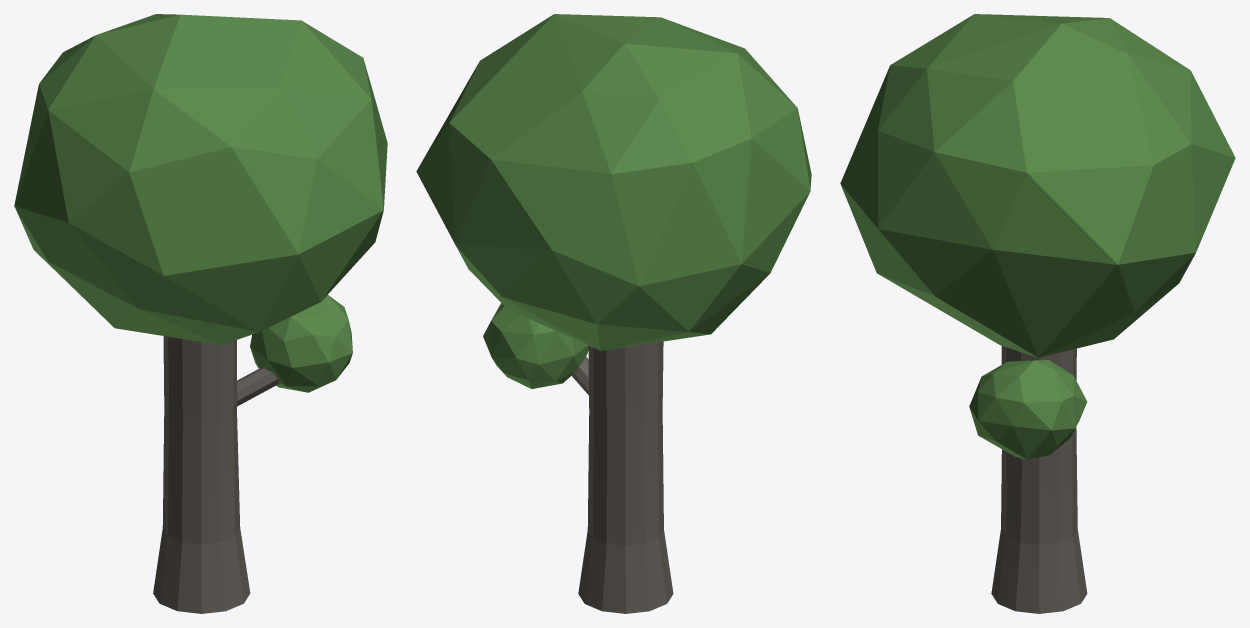
File: round tree1.fbx
3 renders of one model, left to right at view 1: azimuth 30°, elevation 25°; view 2: azimuth 150°, elevation 25°; view 3: azimuth 270°, elevation 25°, orthographic. The views are drawn at different scales.
Visible parts, largest first — view 1: Round Tree.003; view 2: Round Tree.003; view 3: Round Tree.003.
Boxes of the visible parts, bbox=[...] form: Round Tree.003: bbox=[14, 14, 387, 613]; Round Tree.003: bbox=[416, 14, 811, 613]; Round Tree.003: bbox=[840, 14, 1235, 613].
Size of the model in its own units: 425 by 695 by 440.
